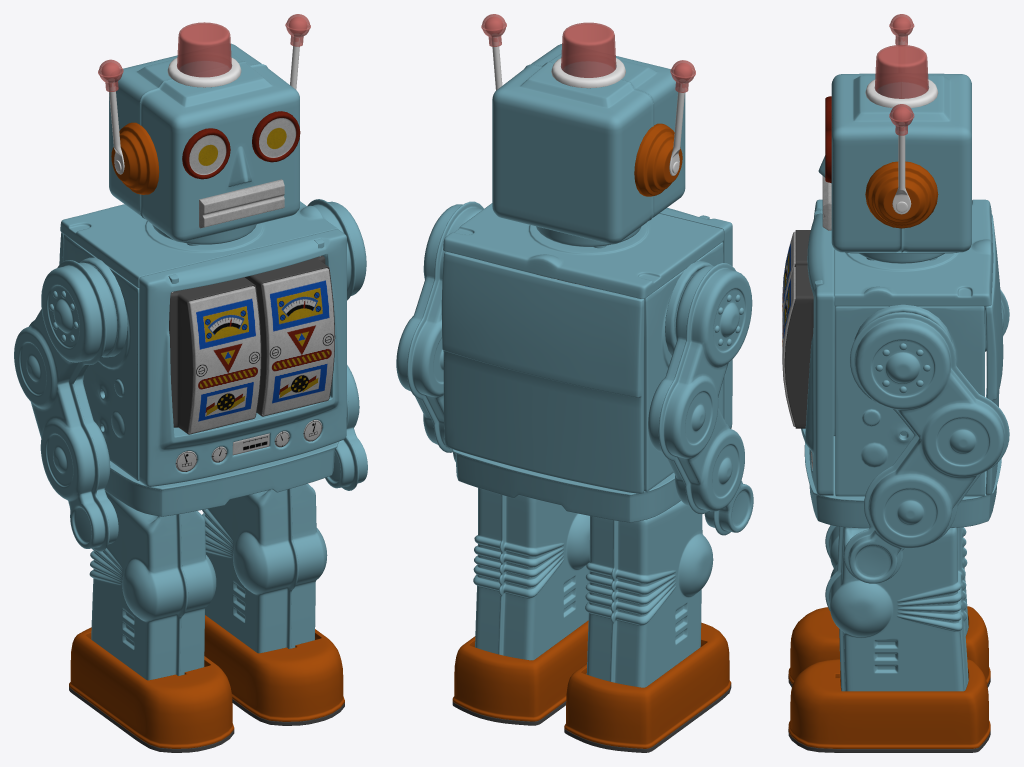
Rendered from robot.fbx.
The picture shows the model from 3 angles, left to right: view 1: azimuth 30°, elevation 25°; view 2: azimuth 150°, elevation 25°; view 3: azimuth 270°, elevation 25°; orthographic projection. The views are drawn at different scales.
Visible parts, largest first — view 1: robot_left_arm.001, robot_right_arm, robot_right_leg, robot_left_leg, robot_right_foot, robot_left_foot, robot_left_arm; view 2: robot_left_arm.001, robot_right_leg, robot_right_arm, robot_left_leg, robot_right_foot, robot_left_foot, robot_left_arm; view 3: robot_left_arm.001, robot_left_arm, robot_left_leg, robot_left_foot, robot_right_foot, robot_right_leg.
Boxes of the visible parts, x1,y1,x2,y2 form: robot_left_arm.001: (59, 14, 346, 516); robot_right_arm: (14, 259, 121, 551); robot_right_leg: (89, 491, 216, 680); robot_left_leg: (202, 483, 327, 653); robot_right_foot: (69, 627, 234, 752); robot_left_foot: (204, 615, 344, 725); robot_left_arm: (307, 199, 367, 490); robot_left_arm.001: (441, 14, 732, 522); robot_right_leg: (585, 501, 713, 687); robot_right_arm: (648, 263, 753, 535); robot_left_leg: (473, 488, 589, 660); robot_right_foot: (564, 622, 731, 752); robot_left_foot: (452, 620, 588, 725); robot_left_arm: (396, 201, 483, 461); robot_left_arm.001: (782, 14, 1003, 528); robot_left_arm: (843, 306, 1009, 583); robot_left_leg: (825, 527, 968, 691); robot_left_foot: (788, 659, 990, 752); robot_right_foot: (788, 606, 990, 687); robot_right_leg: (825, 525, 968, 635).
Bounding box in the file's own units: 1519 × 3297 × 1043.
